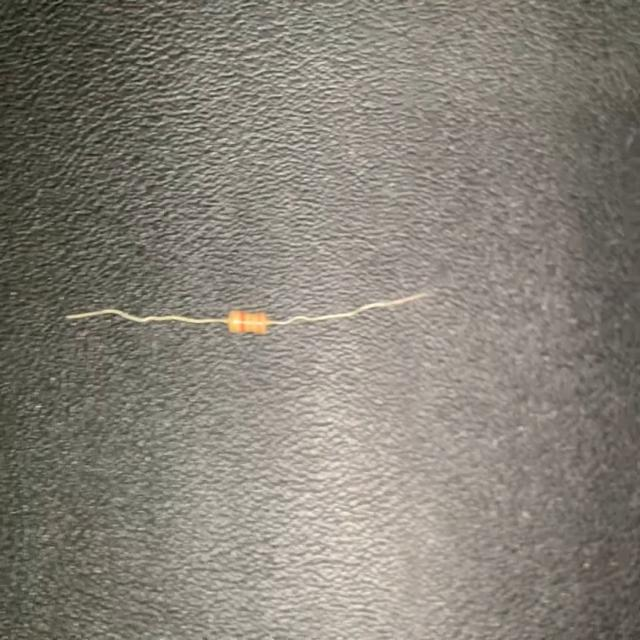resistor: (64, 288, 432, 338)
